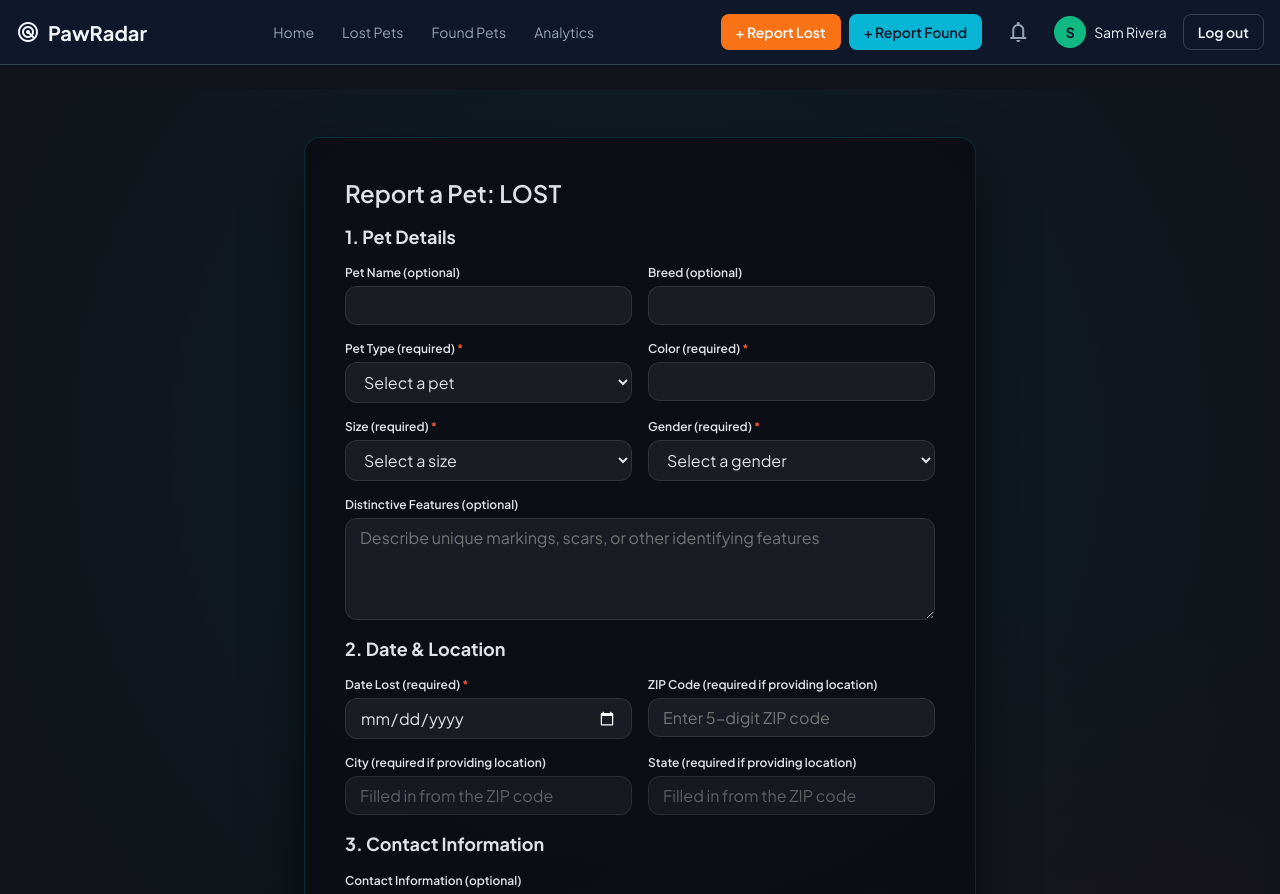
Scenario: ReportPetPage › 2. navigates to the new LOST report details with confirmation
Select "Dog" in the dropdown labelled "Pet Type (required)" at (488, 383), box [345,362,632,403]
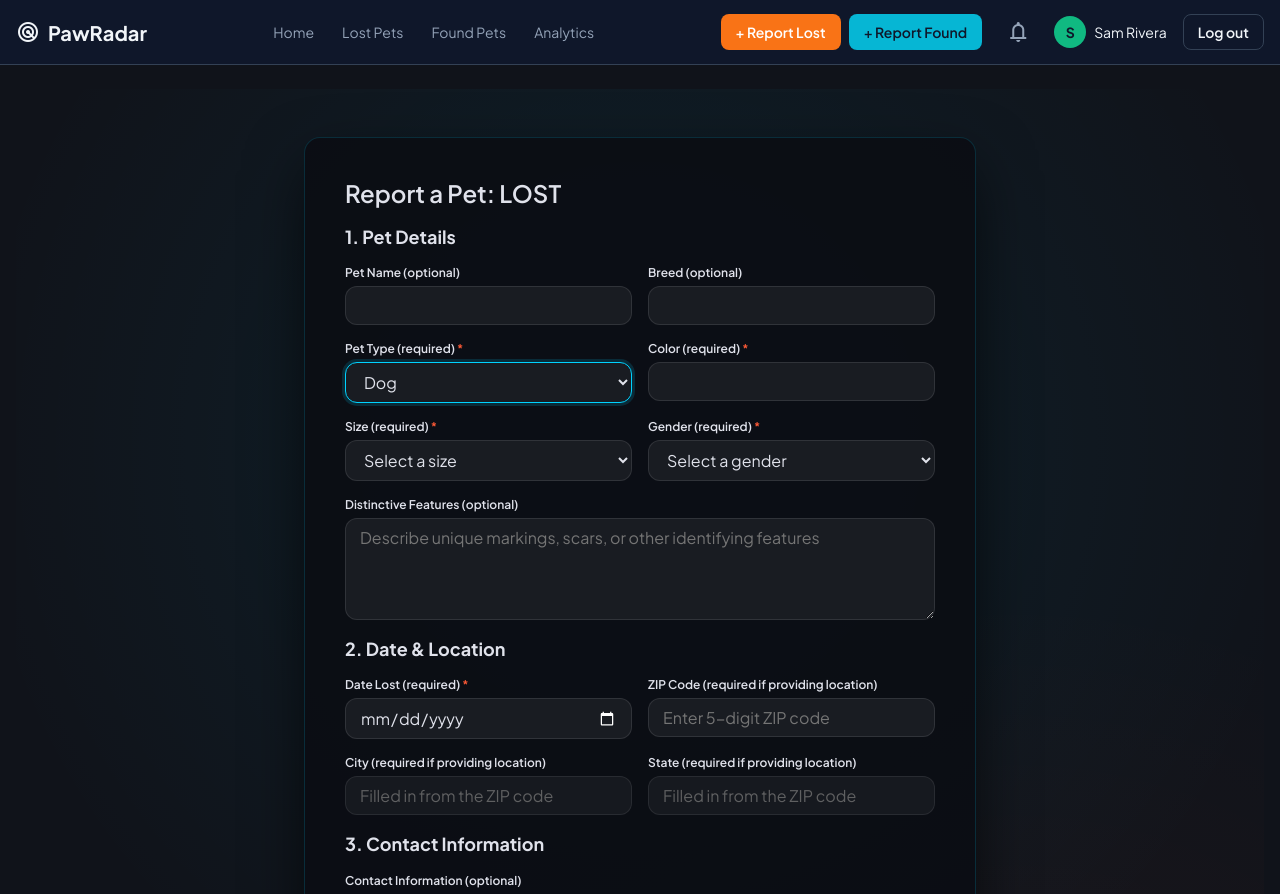
Type "Brown" into the field labelled "Color (required)" at (792, 382), box [648,362,935,401]
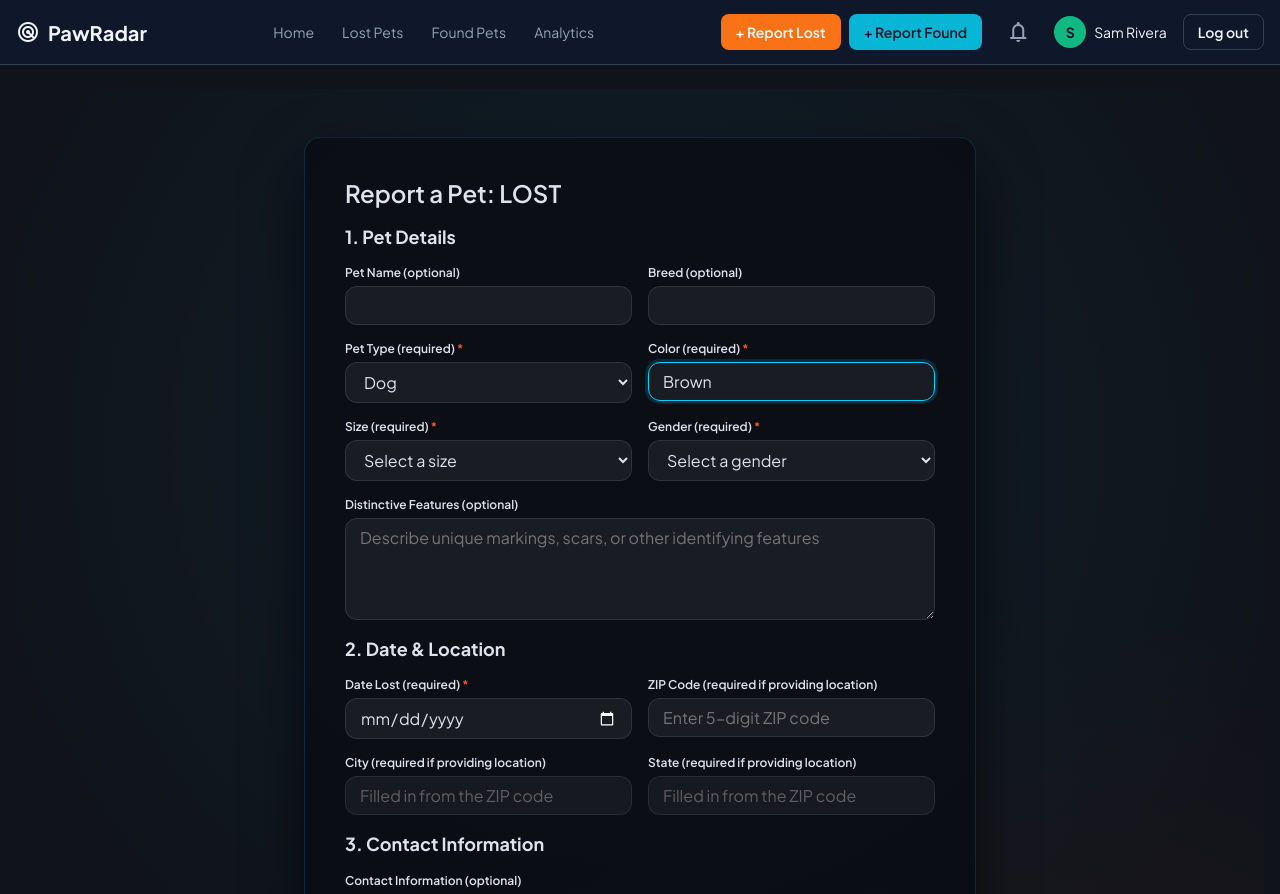
Select "Small" in the dropdown labelled "Size (required)" at (488, 461), box [345,440,632,481]
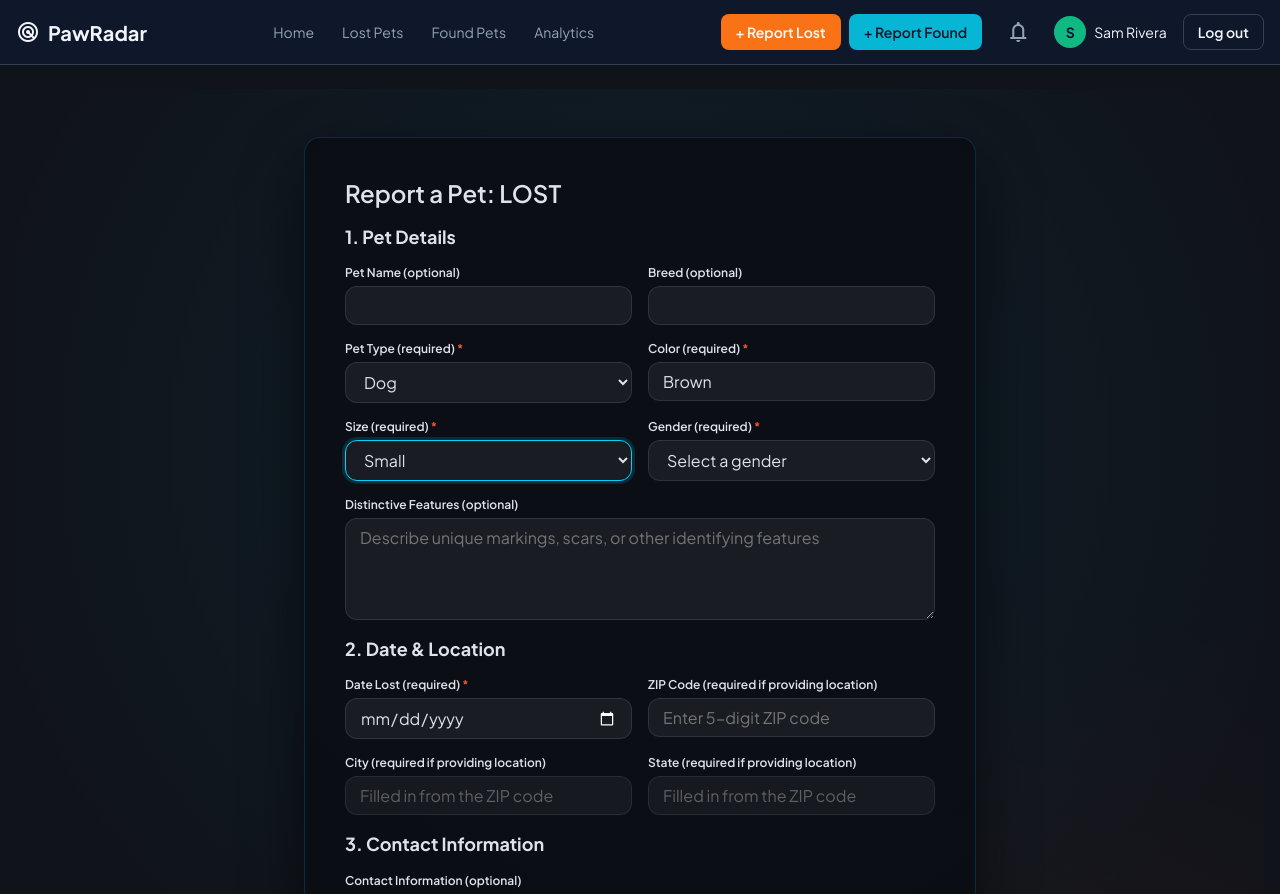
Select "Male" in the dropdown labelled "Gender (required)" at (792, 461), box [648,440,935,481]
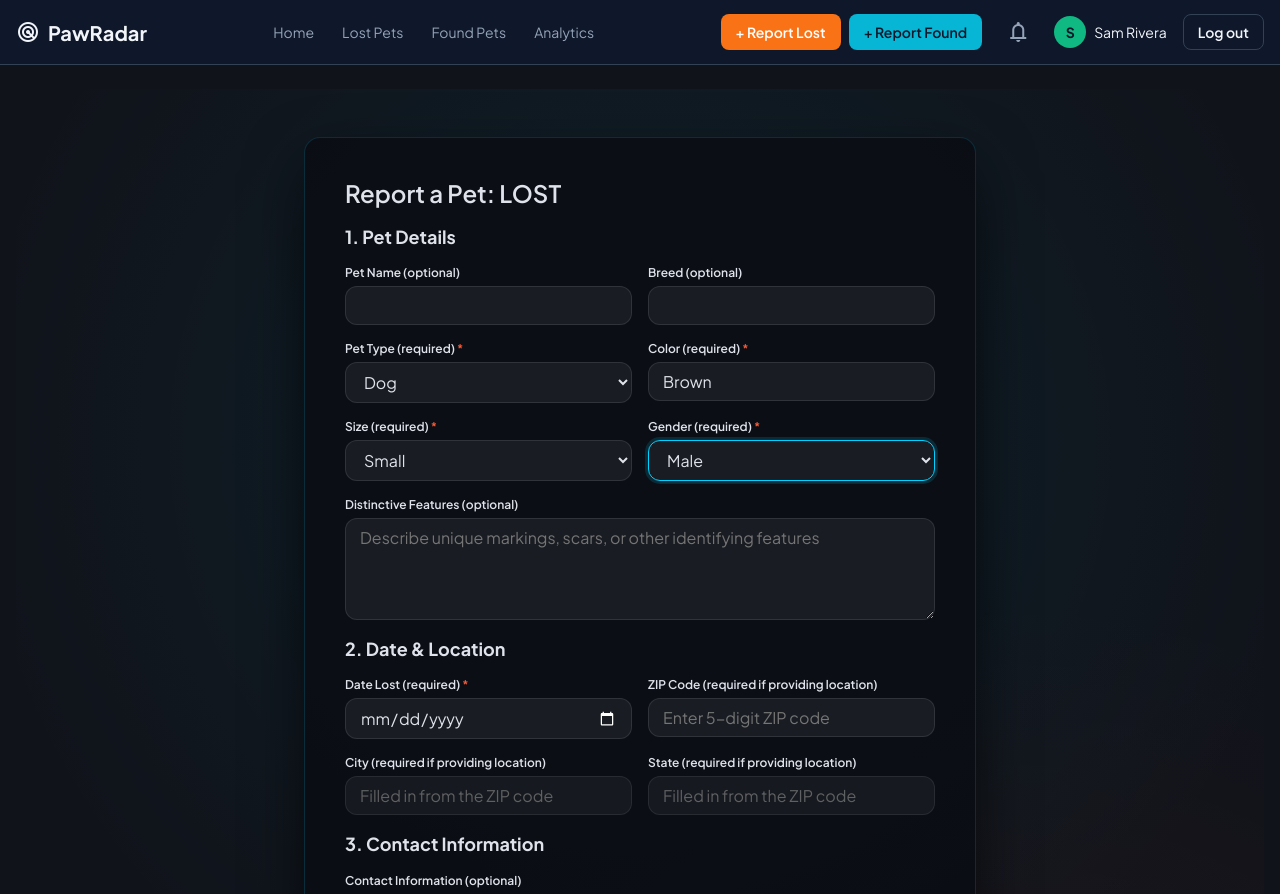
Type "2026-10-20" into the date field labelled "Date Lost (required)" at (488, 719), box [345,698,632,739]
(page scrolled)
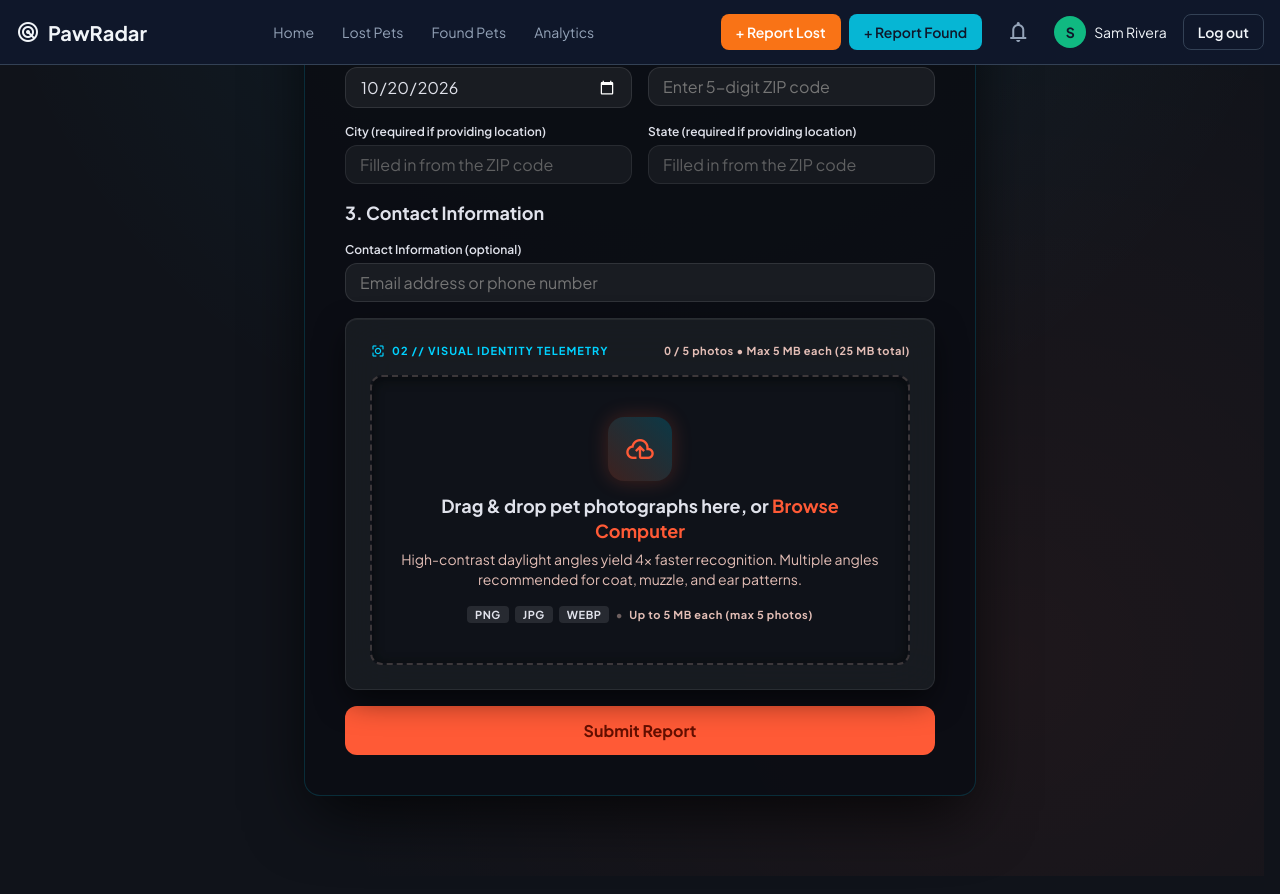
Click the button "Submit Report" at (640, 730), box [345,706,935,754]
(page scrolled)
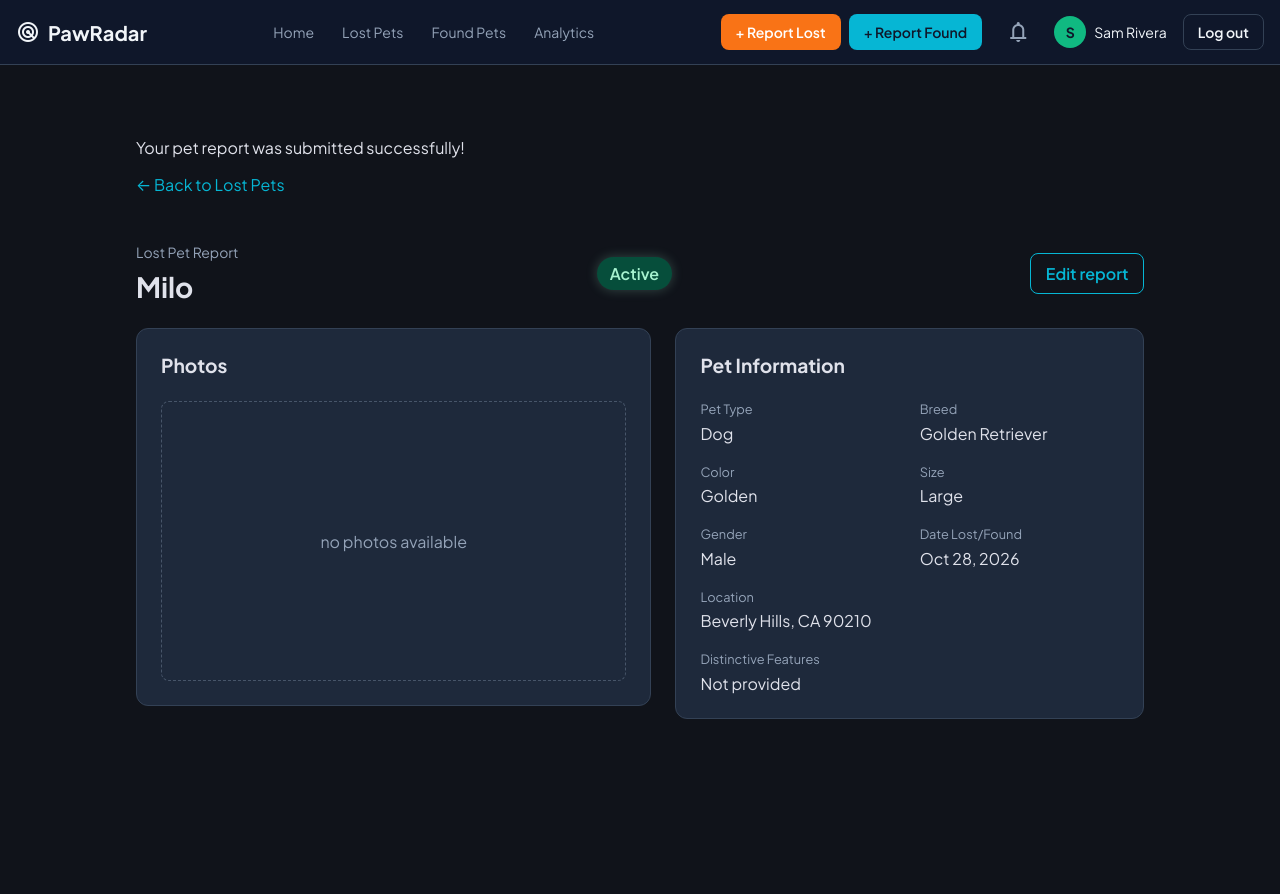
Result: the heading "Milo" is shown at [136,269,193,304]
Result: the message reads "Your pet report was submitted successfully!" at [136,137,465,158]
Result: the button "Submit Report" is gone
